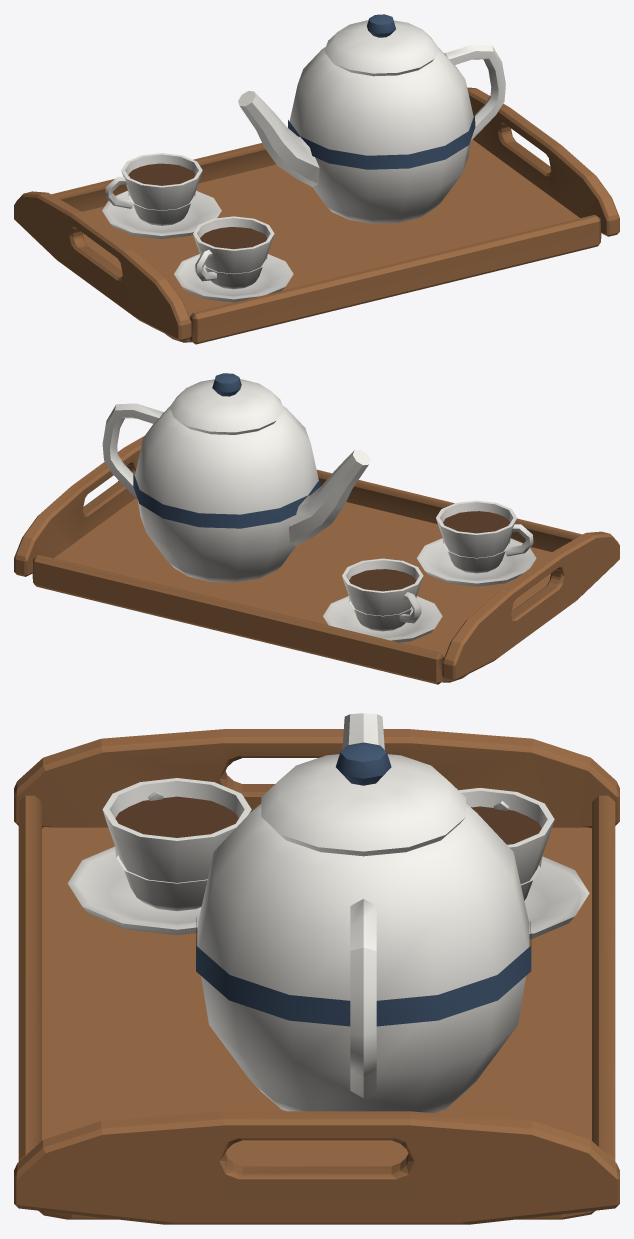
Rendered from teapotSet.glb.
3 views of the same model, one above another, from view 1: azimuth 30°, elevation 25°; view 2: azimuth 150°, elevation 25°; view 3: azimuth 270°, elevation 25° (orthographic). The views are drawn at different scales.
Parts seen in each view (by area): view 1: teapotSet; view 2: teapotSet; view 3: teapotSet.
Boxes of the visible parts, bbox=[...] form: teapotSet: bbox=[14, 14, 619, 344]; teapotSet: bbox=[14, 373, 619, 684]; teapotSet: bbox=[14, 713, 619, 1224].
Bounding box in the file's own units: 0.4 × 0.167 × 0.26.
